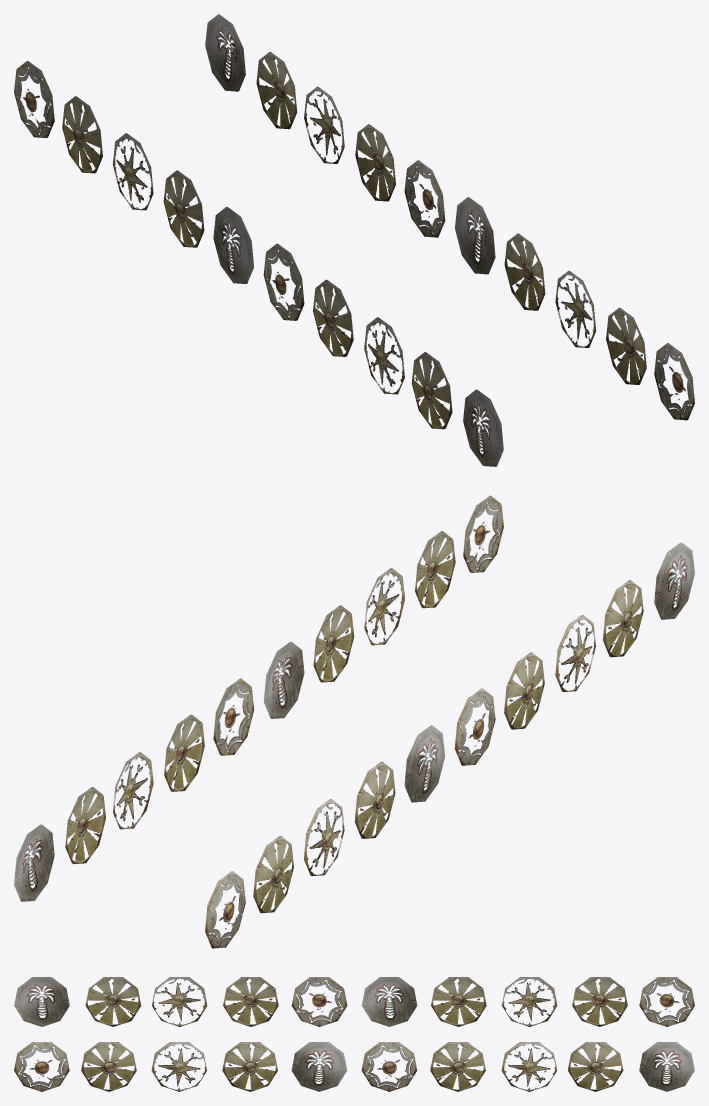
Rendered from kart_bireme_shields.dae.
3 views of the same model, one above another, from view 1: azimuth 30°, elevation 25°; view 2: azimuth 150°, elevation 25°; view 3: azimuth 270°, elevation 25° (orthographic). The views are drawn at different scales.
Parts seen in each view (by area): view 1: Cylinder018; view 2: Cylinder018; view 3: Cylinder018.
Boxes of the visible parts, bbox=[...] form: Cylinder018: bbox=[14, 14, 694, 466]; Cylinder018: bbox=[14, 495, 694, 948]; Cylinder018: bbox=[14, 977, 694, 1091].
Size of the model in its own units: 4.96 by 1.68 by 20.9.
